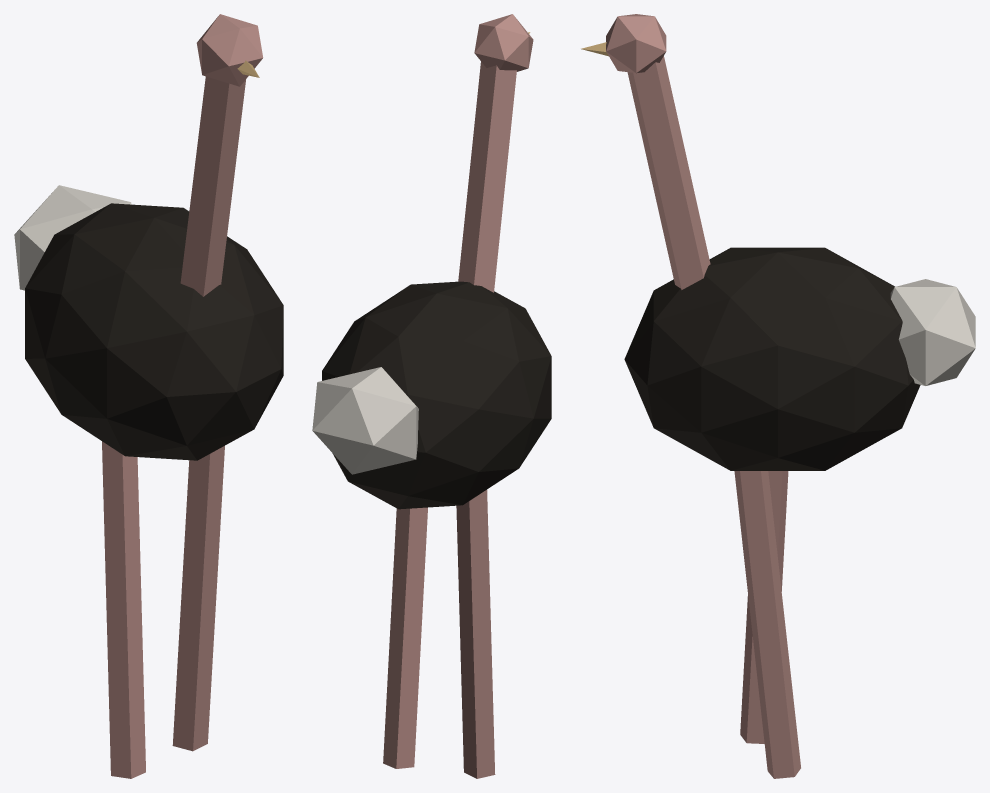
File: burungunta.glb
3 renders of one model, left to right at view 1: azimuth 30°, elevation 25°; view 2: azimuth 150°, elevation 25°; view 3: azimuth 270°, elevation 25°, orthographic. The views are drawn at different scales.
Visible parts, largest first — view 1: kbs_burungunta; view 2: kbs_burungunta; view 3: kbs_burungunta.
Part boxes in pixels (left/top/right/bottom): kbs_burungunta: left=14, top=14, right=283, bottom=778; kbs_burungunta: left=312, top=14, right=551, bottom=778; kbs_burungunta: left=581, top=14, right=975, bottom=778.
Size of the model in its own units: 0.6655 by 2.3 by 1.11.
